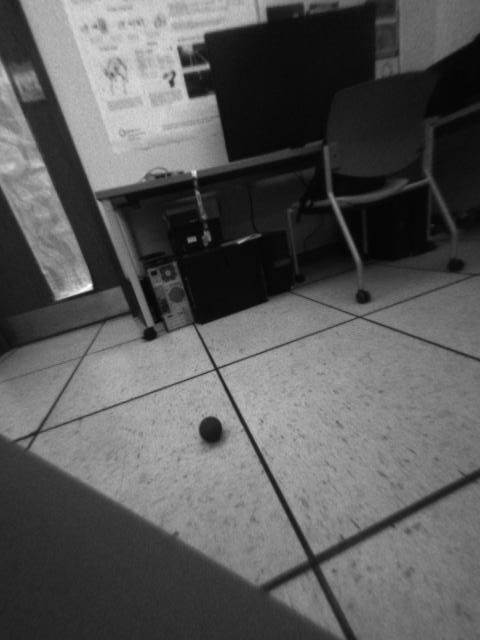dogtoy: (195, 409, 230, 451)
